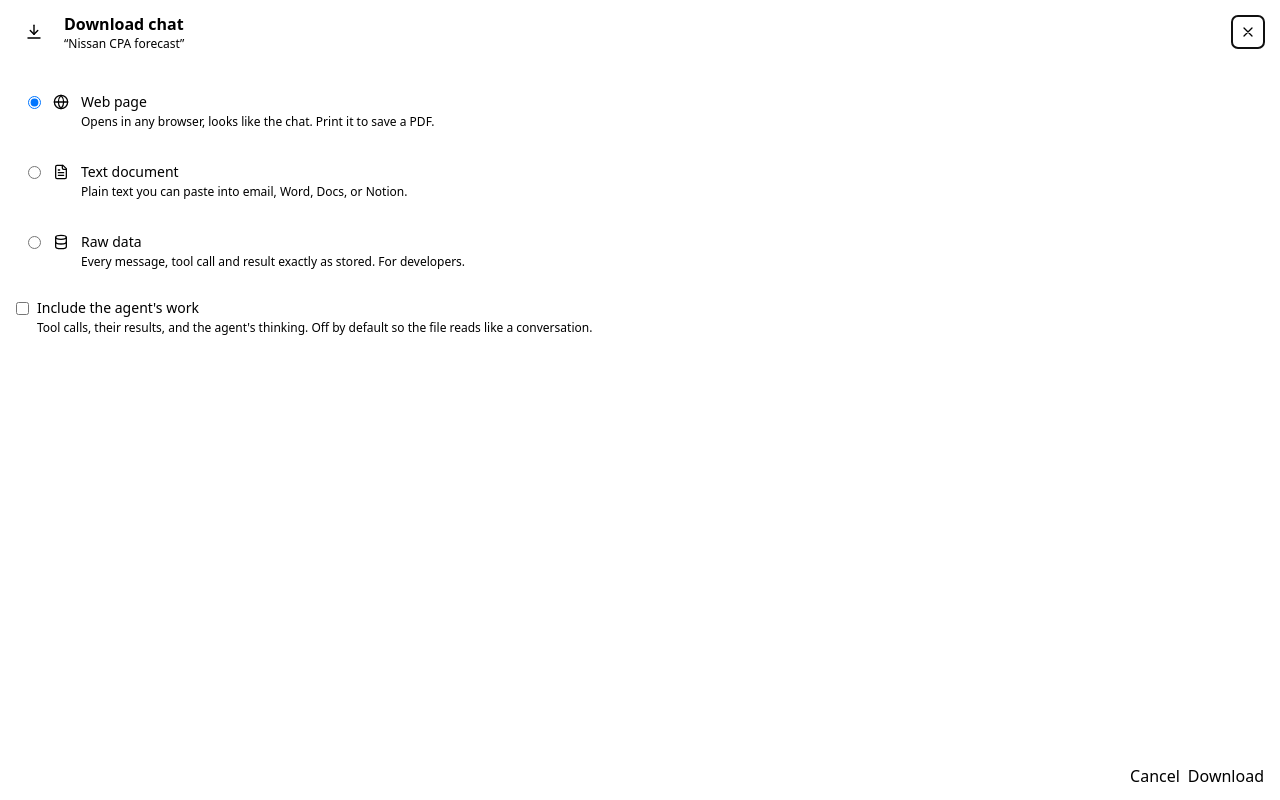
Test: DownloadChatDialog › hides the scope choice for raw data, which always carries everything
The width and height of the screenshot is (1280, 800).
Expected: the checkbox labelled "Include the agent's work" is shown, [16,302,29,315]
Click the radio button labelled "Raw data". click: [34, 242]
box: [28,236,41,249]
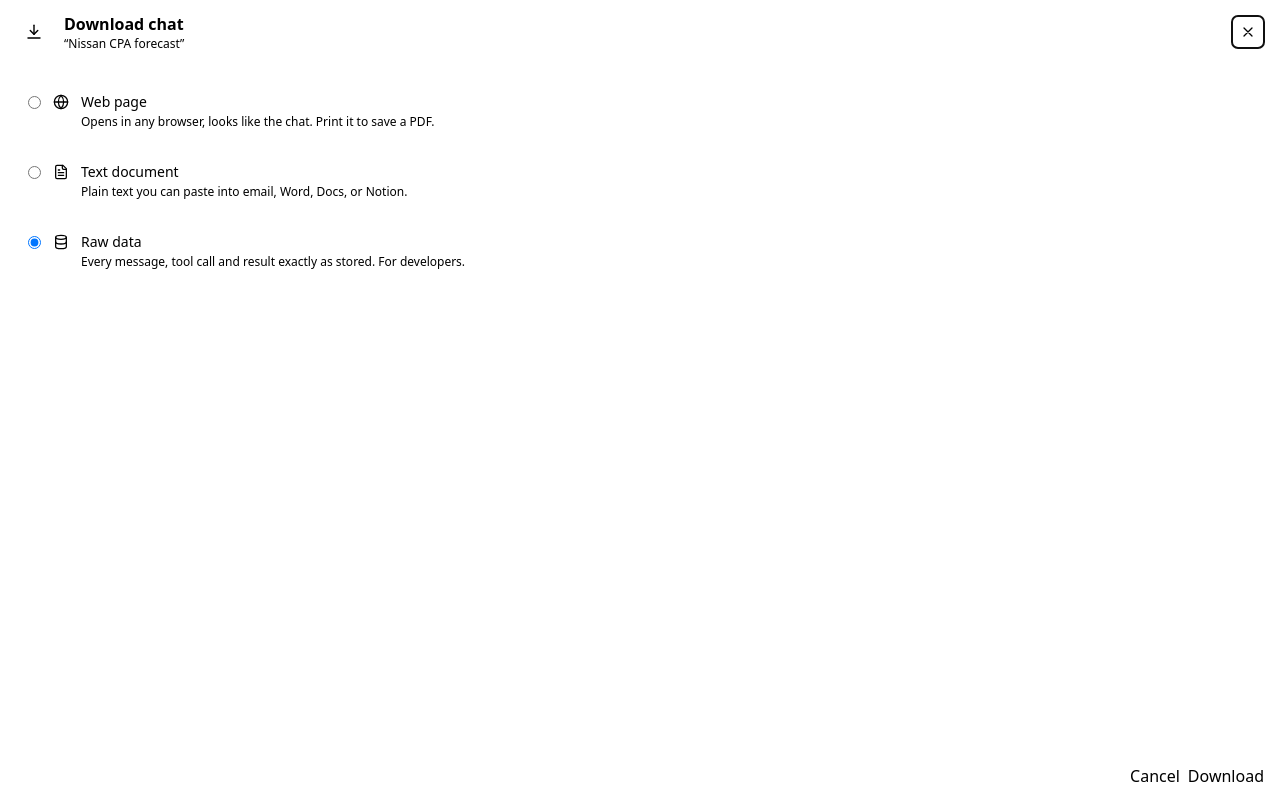
Expected: the field labelled "Include the agent's work" is gone
